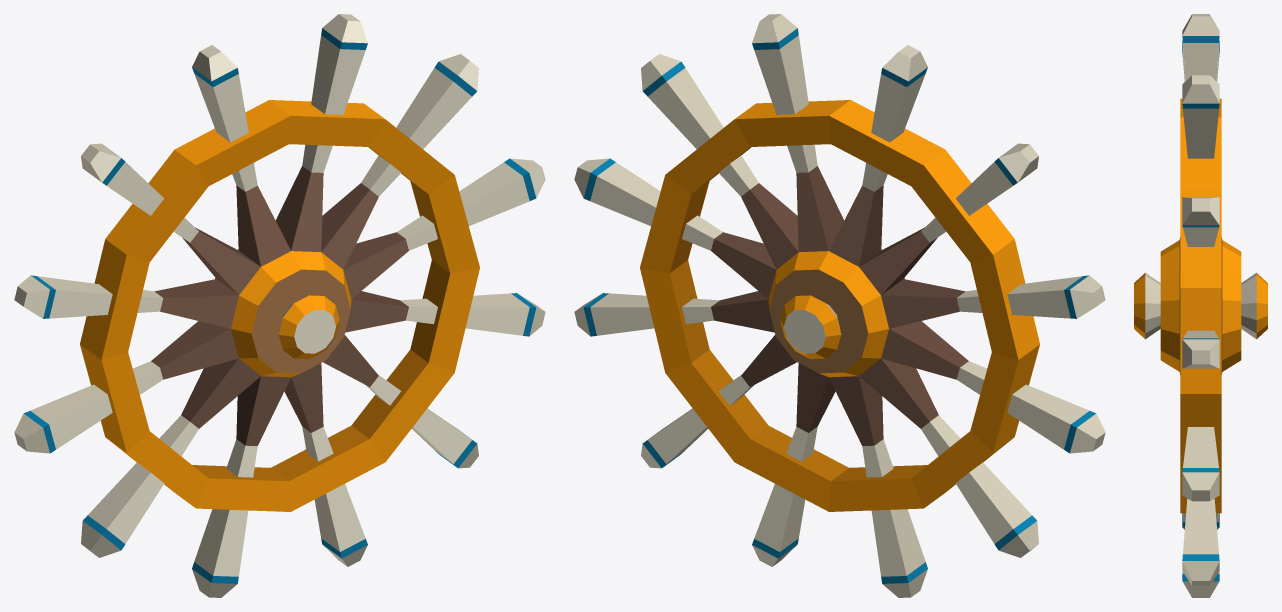
Rendered from BoatWheel_01.glb.
3 renders of one model, left to right at view 1: azimuth 30°, elevation 25°; view 2: azimuth 150°, elevation 25°; view 3: azimuth 270°, elevation 25°, orthographic. The views are drawn at different scales.
Visible parts, largest first — view 1: BoatWheel_01; view 2: BoatWheel_01; view 3: BoatWheel_01.
Part boxes in pixels (x1=…): BoatWheel_01: x1=14, y1=14, x2=545, y2=597; BoatWheel_01: x1=574, y1=14, x2=1105, y2=597; BoatWheel_01: x1=1134, y1=14, x2=1267, y2=597.
Size of what is drawn, in the model's own units: 1.07 by 1.07 by 0.2487.
1 material, 1 textured.
